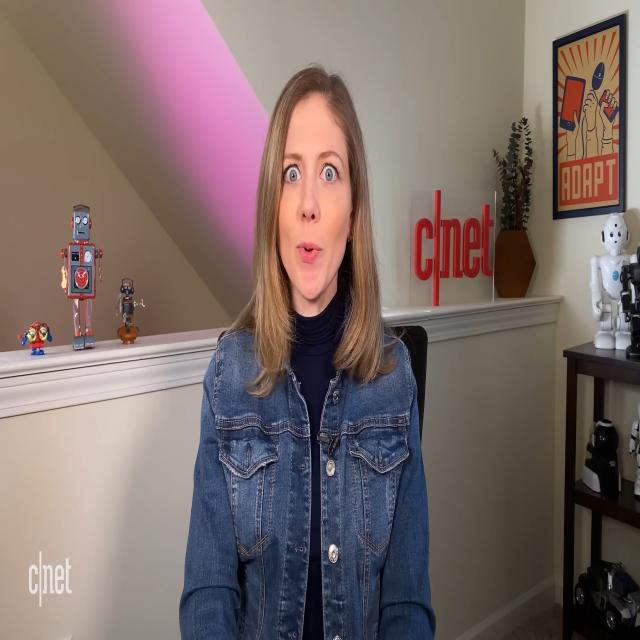dress: (177, 291, 440, 640)
